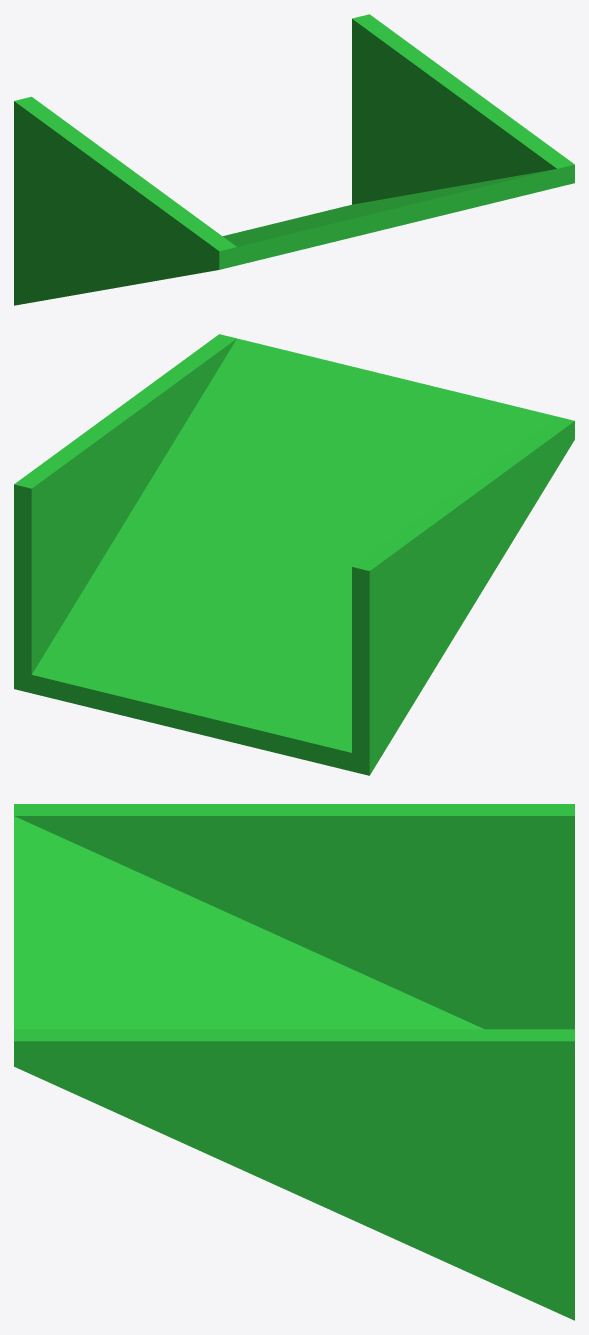
The model's file is Rooms_Stairs_Line_A.FBX.
3 renders of one model, top to bottom at view 1: azimuth 30°, elevation 25°; view 2: azimuth 150°, elevation 25°; view 3: azimuth 270°, elevation 25°, orthographic. The views are drawn at different scales.
Parts seen in each view (by area): view 1: Rooms_Stairs_Line_A; view 2: Rooms_Stairs_Line_A; view 3: Rooms_Stairs_Line_A.
Part boxes in pixels (x1,y1,x2,y2): Rooms_Stairs_Line_A: (14,14,574,305); Rooms_Stairs_Line_A: (14,334,574,775); Rooms_Stairs_Line_A: (14,804,574,1320).
Size of the model in its own units: 400 by 220 by 400.
